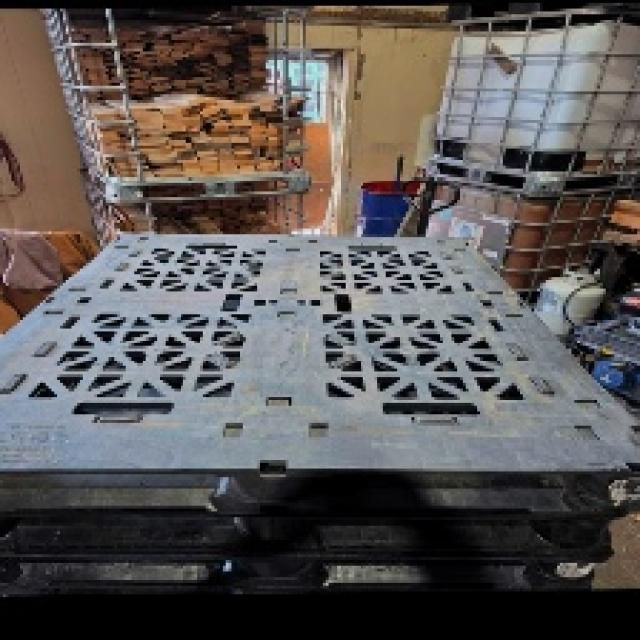igps: (0, 224, 640, 516), (0, 506, 635, 558), (0, 555, 618, 607)
